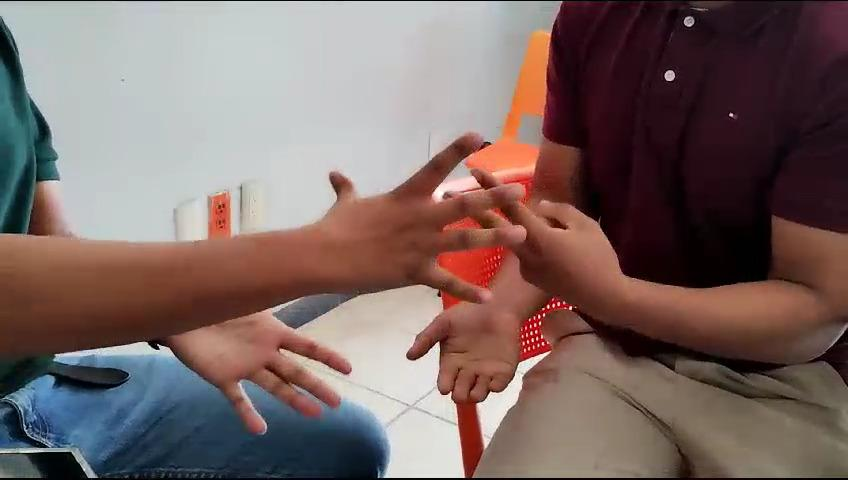Paper: (282, 113, 536, 327)
Scissor: (453, 161, 625, 333)
